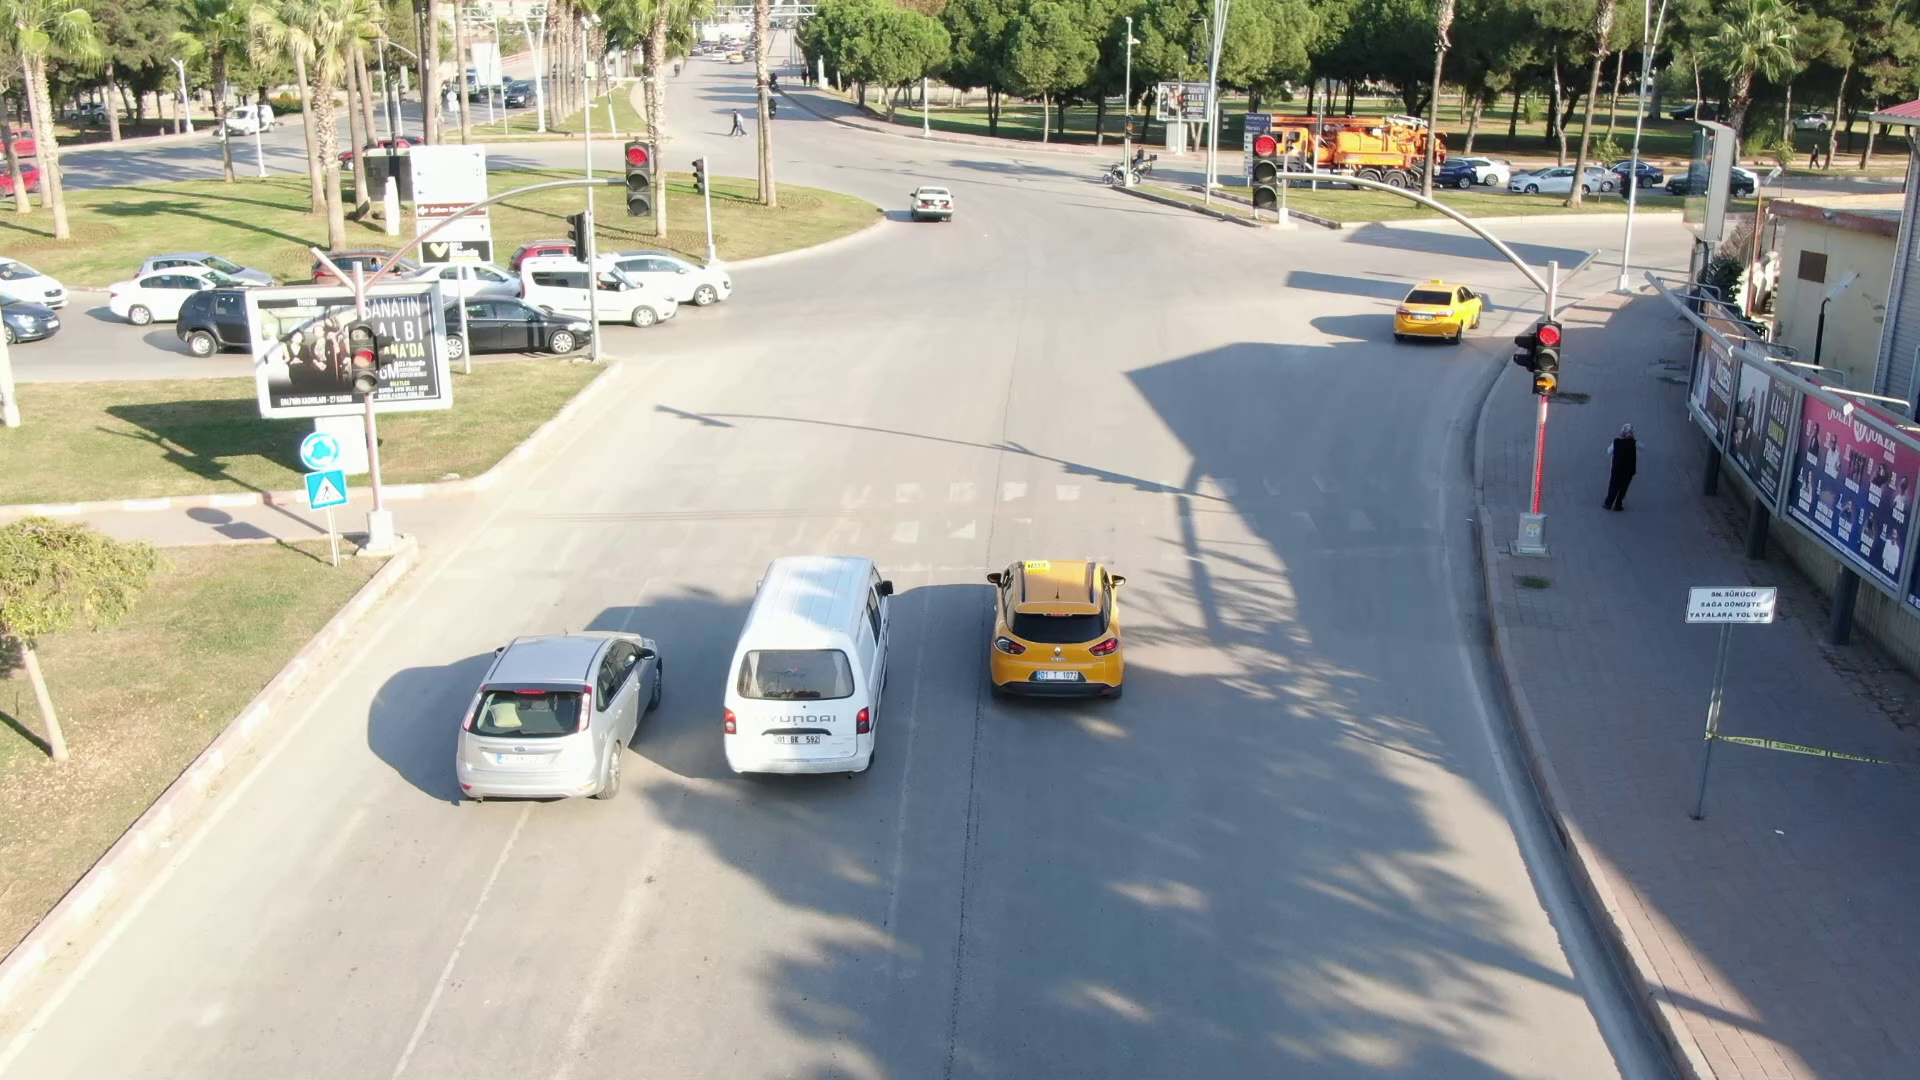car: (714, 557, 902, 802), (463, 635, 674, 800), (978, 563, 1149, 700), (417, 272, 598, 365), (525, 259, 665, 323), (614, 261, 741, 314), (1386, 280, 1492, 341), (388, 257, 515, 300), (180, 284, 263, 349), (104, 278, 247, 317), (1, 251, 68, 312), (141, 247, 257, 280), (2, 286, 63, 337), (912, 184, 955, 219)
person: (1606, 419, 1645, 514)
